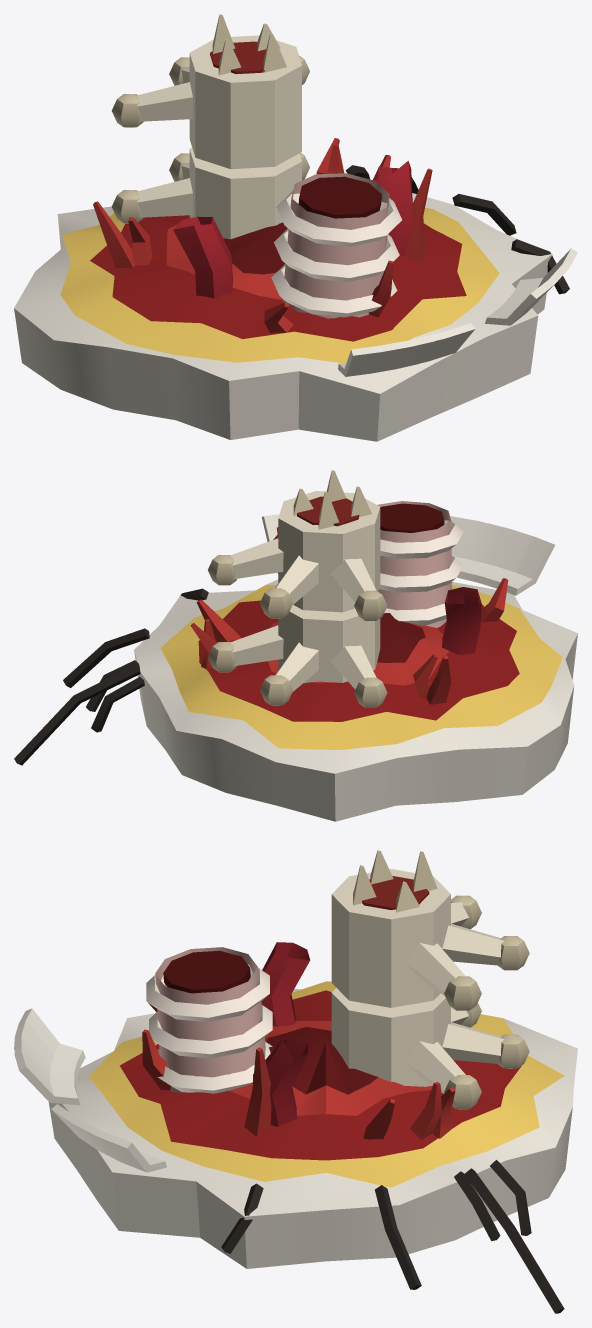
The model's file is wound_neck_body.glb.
3 views of the same model, one above another, from view 1: azimuth 30°, elevation 25°; view 2: azimuth 150°, elevation 25°; view 3: azimuth 270°, elevation 25° (orthographic). The views are drawn at different scales.
Parts seen in each view (by area): view 1: wound_neck_body; view 2: wound_neck_body; view 3: wound_neck_body.
Part boxes in pixels (left/top/right/bottom): wound_neck_body: left=14, top=14, right=577, bottom=441; wound_neck_body: left=14, top=470, right=577, bottom=821; wound_neck_body: left=14, top=850, right=577, bottom=1313.
Size of the model in its own units: 0.1105 by 0.0665 by 0.1039.
